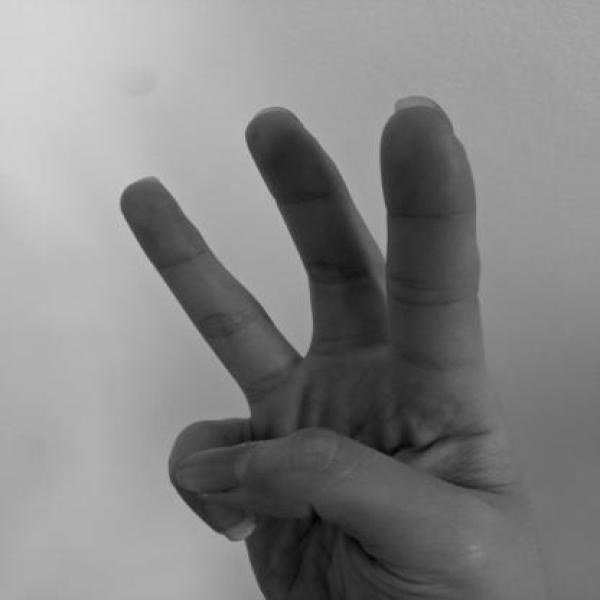W: (108, 88, 557, 599)
